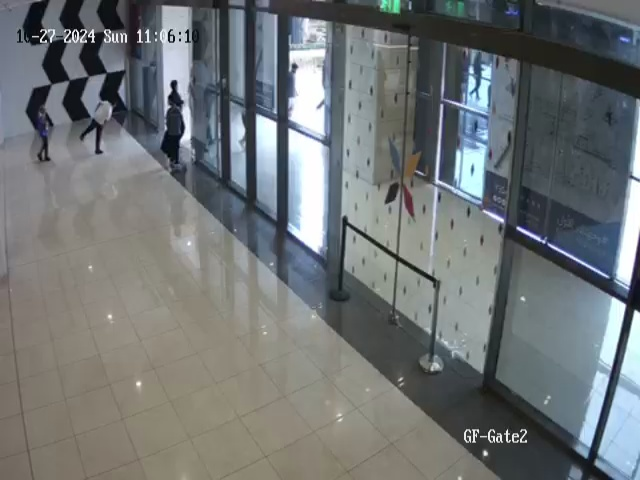male: (160, 80, 186, 170), (79, 95, 114, 155), (282, 50, 300, 123), (35, 105, 54, 162)
